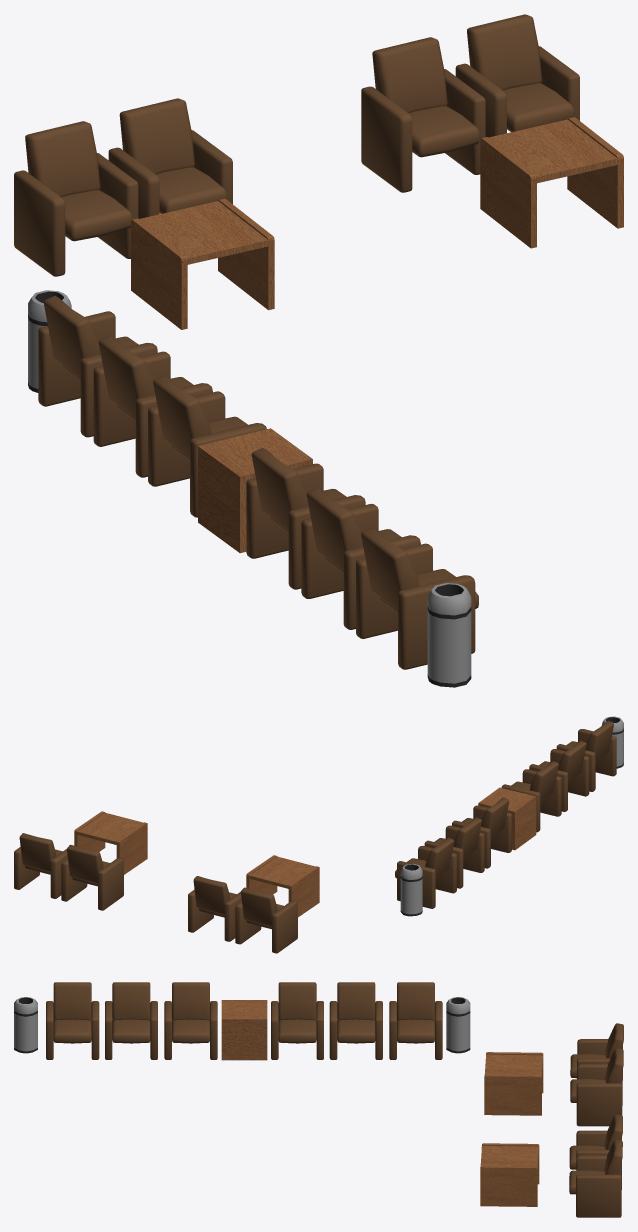
The model's file is COBA 2nd Floor Furniture.fbx.
The picture shows the model from 3 angles, top to bottom: view 1: azimuth 30°, elevation 25°; view 2: azimuth 150°, elevation 25°; view 3: azimuth 270°, elevation 25°; orthographic projection. The views are drawn at different scales.
Visible parts, largest first — view 1: o_2_floor_hall_chair.000, o_2_floor_hall_chair.003, o_2_floor_table.000, o_2_floor_table.001, o_2_floor_hall_chair.001, o_2_floor_hall_chair.002, o_2_floor_hall_chair.004, o_2_floor_hall_chair.007, o_2_floor_hall_chair.006, o_2_floor_hall_chair.009, o_2_floor_hall_chair.005, o_2_floor_hall_chair.008 (+3 smaller); view 2: o_2_floor_hall_chair.000, o_2_floor_hall_chair.003, o_2_floor_table.001, o_2_floor_table.000, o_2_floor_hall_chair.007, o_2_floor_hall_chair.001, o_2_floor_hall_chair.002, o_2_floor_hall_chair.006, o_2_floor_hall_chair.005, o_2_floor_hall_chair.008, o_2_floor_hall_chair.004, o_2_floor_hall_chair.009 (+3 smaller); view 3: o_2_floor_table.001, o_2_floor_table.000, o_2_floor_hall_chair.004, o_2_floor_hall_chair.008, o_2_floor_hall_chair.006, o_2_floor_hall_chair.007, o_2_floor_hall_chair.001, o_2_floor_hall_chair.005, o_2_floor_hall_chair.009, o_2_floor_hall_chair.002, o_2_floor_table.002, o_2_floor_hall_chair.000 (+3 smaller).
Boxes of the visible parts, box(x1,y1,x2,y2) form: o_2_floor_hall_chair.000: box(361, 37, 485, 192); o_2_floor_hall_chair.003: box(14, 121, 138, 276); o_2_floor_table.000: box(131, 198, 274, 329); o_2_floor_table.001: box(480, 117, 623, 248); o_2_floor_hall_chair.001: box(455, 14, 579, 137); o_2_floor_hall_chair.002: box(108, 98, 232, 218); o_2_floor_hall_chair.004: box(356, 528, 478, 669); o_2_floor_hall_chair.007: box(38, 295, 157, 437); o_2_floor_hall_chair.006: box(246, 448, 365, 589); o_2_floor_hall_chair.009: box(148, 376, 266, 517); o_2_floor_hall_chair.005: box(301, 488, 420, 629); o_2_floor_hall_chair.008: box(93, 336, 212, 477); o_2_floor_hall_chair.000: box(61, 845, 123, 910); o_2_floor_hall_chair.003: box(235, 887, 297, 953); o_2_floor_table.001: box(74, 811, 147, 874); o_2_floor_table.000: box(246, 855, 319, 917); o_2_floor_hall_chair.007: box(395, 837, 456, 908); o_2_floor_hall_chair.001: box(14, 833, 67, 898); o_2_floor_hall_chair.002: box(188, 876, 241, 941); o_2_floor_hall_chair.006: box(501, 761, 561, 832); o_2_floor_hall_chair.005: box(529, 740, 589, 811); o_2_floor_hall_chair.008: box(424, 817, 484, 888); o_2_floor_hall_chair.004: box(556, 720, 616, 791); o_2_floor_hall_chair.009: box(452, 797, 511, 868); o_2_floor_table.001: box(480, 1143, 539, 1206); o_2_floor_table.000: box(484, 1052, 543, 1115); o_2_floor_hall_chair.004: box(46, 982, 99, 1059); o_2_floor_hall_chair.008: box(329, 982, 382, 1059); o_2_floor_hall_chair.006: box(164, 982, 217, 1059); o_2_floor_hall_chair.007: box(389, 982, 442, 1059); o_2_floor_hall_chair.001: box(569, 1139, 622, 1217); o_2_floor_hall_chair.005: box(105, 982, 157, 1059); o_2_floor_hall_chair.009: box(271, 982, 323, 1059); o_2_floor_hall_chair.002: box(570, 1048, 623, 1126); o_2_floor_table.002: box(221, 1000, 267, 1060); o_2_floor_hall_chair.000: box(569, 1114, 622, 1189).
Bounding box in the file's own units: 560 × 90.12 × 816.
